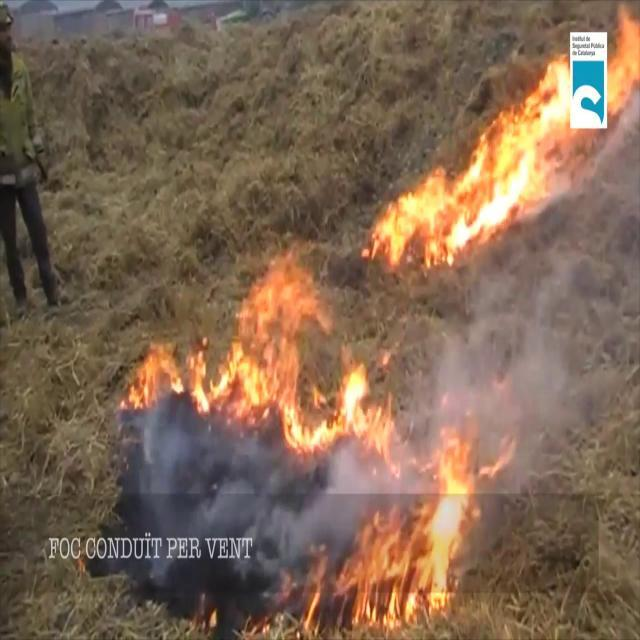Fire: (374, 38, 640, 264), (125, 254, 388, 456), (322, 419, 512, 626), (605, 3, 640, 118)
Smoke: (432, 172, 640, 475)
